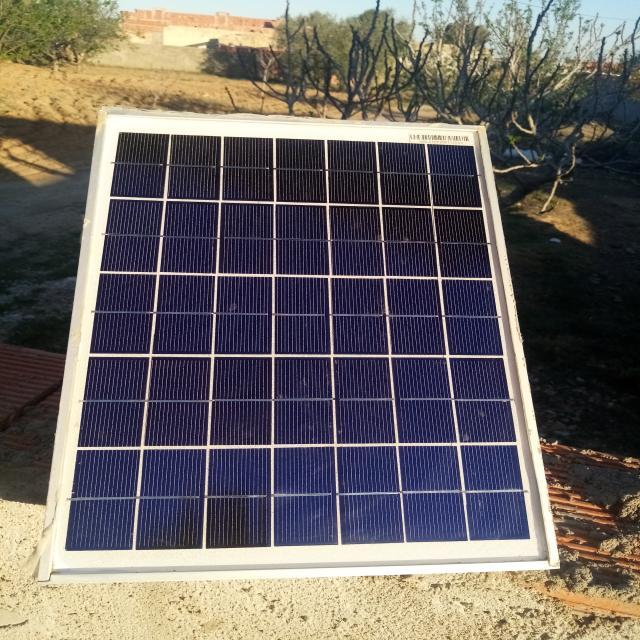no faulty: (45, 109, 560, 578)
